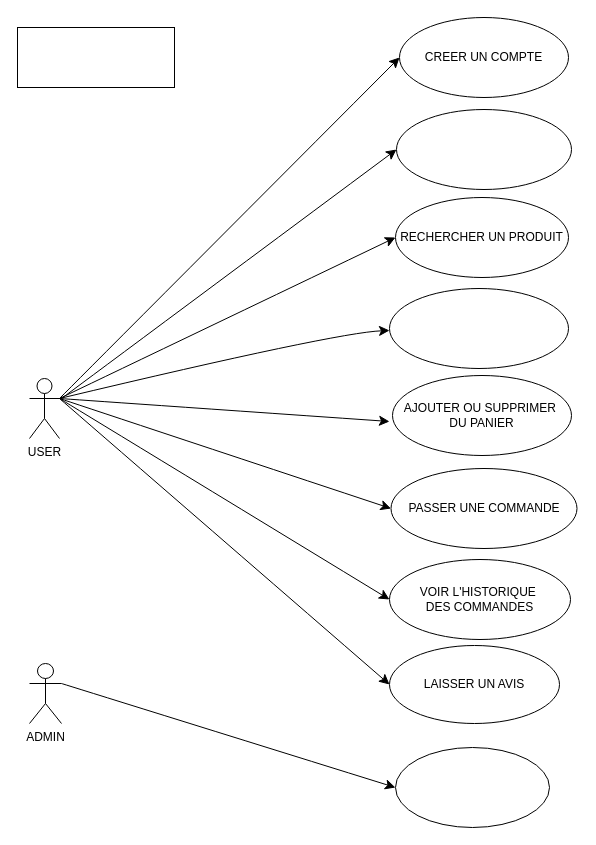
Some shapes in this 596 by 845 pixel diagram are drawn without their labels. The shapes that lost their labels are listed below. From the top down, each one's centre as x and y in pixels, then its label:
At point (95, 57): "SOUNDORA".
At point (484, 149): "SE CONNECTER".
At point (478, 328): "CONSULTER UN PRODUIT".
At point (472, 787): "AJOUTER UN PRODUIT".
